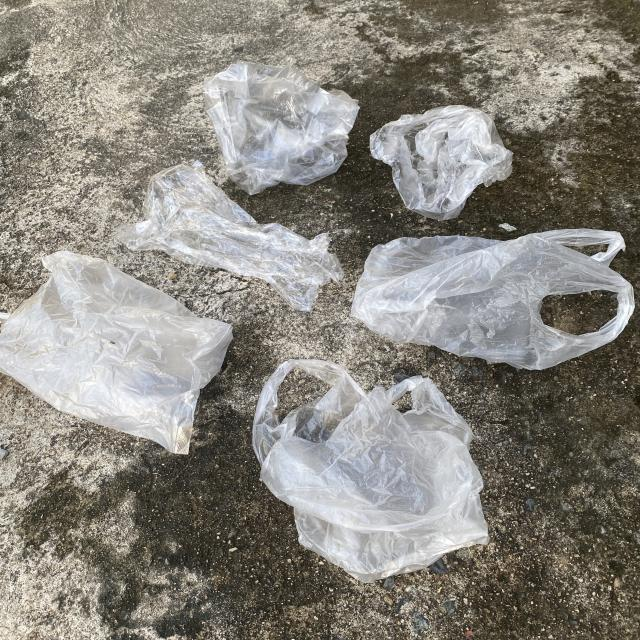Single-layer Plastic: (252, 360, 489, 582), (0, 251, 232, 454), (351, 229, 634, 370), (119, 161, 344, 311), (204, 61, 359, 195), (370, 105, 512, 220)
